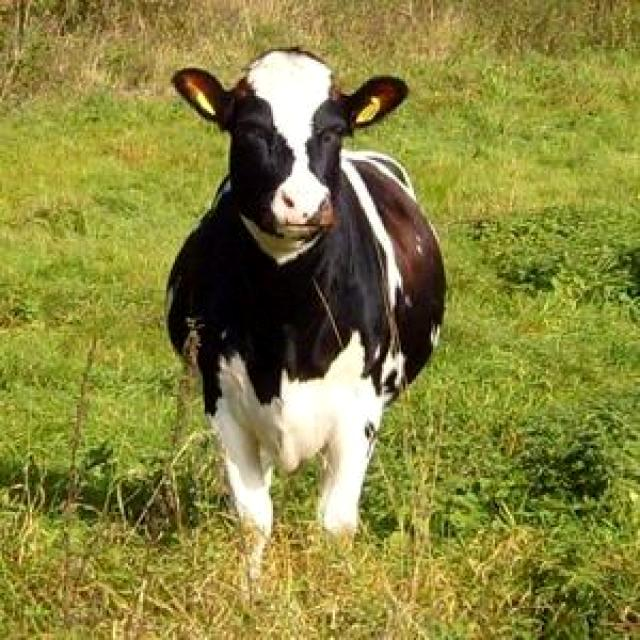COW: (168, 49, 445, 578)
